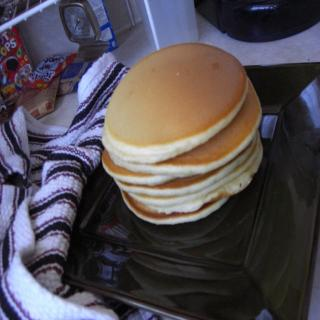Bread: (100, 43, 263, 225)
Pancake: (102, 77, 264, 227), (103, 46, 250, 160)
